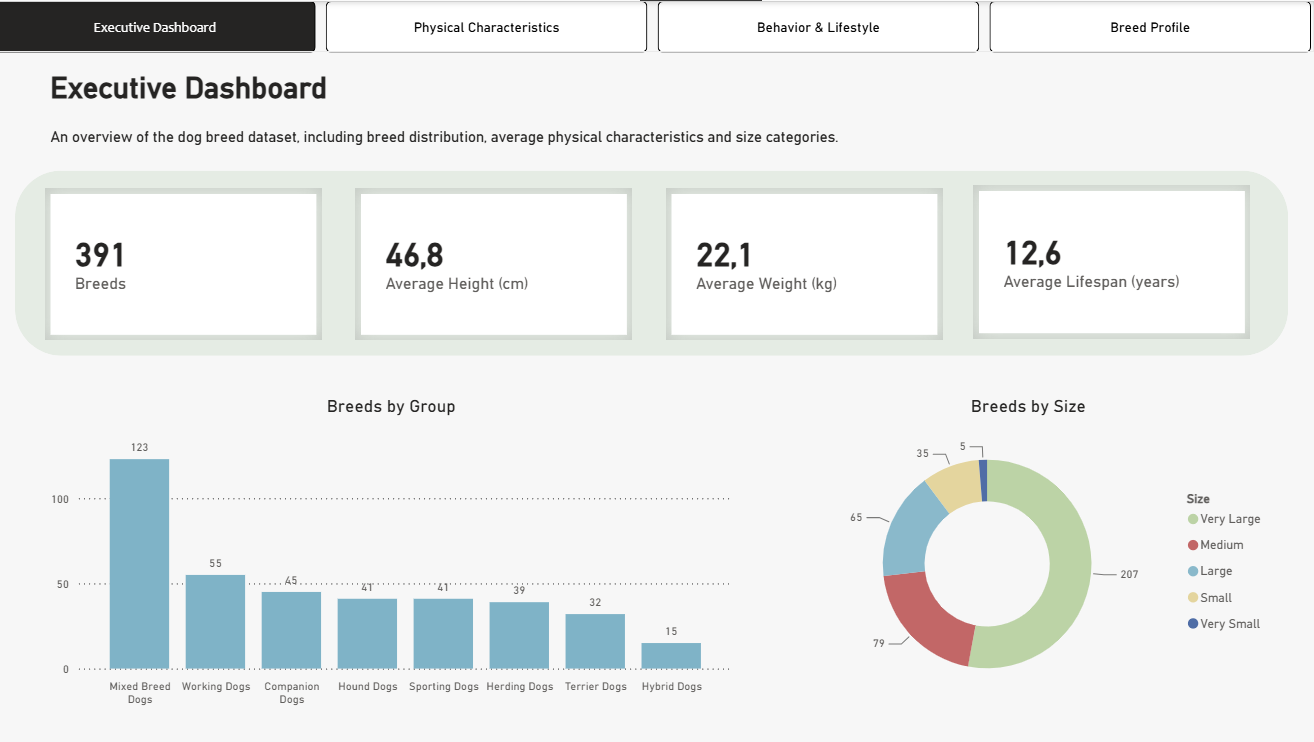

The dashboard page shown, as its layout file describes it:
{"tool":"powerbi","page":{"name":"Executive Dashboard","canvas":[1280,720],"ordinal":0},"visuals":[{"type":"shape","box":[21,165.2,1235.5,179.7],"z":1000},{"type":"cardVisual","fields":{"Data":["Metriky.Průměrná výška"]},"box":[351.4,181.4,268.8,147.3],"z":2000},{"type":"cardVisual","fields":{"Data":["Metriky.Průměrná hmotnost"]},"box":[652.5,181.4,268.8,147.3],"z":3000},{"type":"cardVisual","fields":{"Data":["Metriky.Průměrná délka života"]},"box":[950.5,179.7,268.8,149],"z":4000},{"type":"columnChart","title":"Breeds by Group","fields":{"Category":["Breed Groups.Dog Breed Group"],"Y":["Metriky.Počet plemen"]},"box":[50.2,382.1,672,307.7],"z":5000},{"type":"donutChart","title":"Breeds by Size","fields":{"Category":["Dog Sizes.Dog Size"],"Y":["Metriky.Počet plemen"]},"box":[763.8,382.8,479.3,306.9],"z":6000},{"type":"pageNavigator","box":[0,0,1280.8,50.2],"z":7000},{"type":"textbox","box":[50.2,63.1,555.4,79.3],"z":8000},{"type":"textbox","box":[50.2,118.2,1135.1,47],"z":9000},{"type":"cardVisual","fields":{"Data":["Metriky.Počet plemen"]},"box":[50.2,181.4,268.8,147.3],"z":9500}]}

Visuals, with their boxes on the page's 1280x720 design canvas (x1, y1, x2, y2). These are canvas units, not pixel positions in the 1314x742 screenshot, which may show the page scaled, cropped or inside an application window:
shape: 21, 165, 1256, 345
cardVisual - Metriky.Průměrná výška: 351, 181, 620, 329
cardVisual - Metriky.Průměrná hmotnost: 652, 181, 921, 329
cardVisual - Metriky.Průměrná délka života: 950, 180, 1219, 329
"Breeds by Group" columnChart: 50, 382, 722, 690
"Breeds by Size" donutChart: 764, 383, 1243, 690
pageNavigator: 0, 0, 1281, 50
textbox: 50, 63, 606, 142
textbox: 50, 118, 1185, 165
cardVisual - Metriky.Počet plemen: 50, 181, 319, 329
